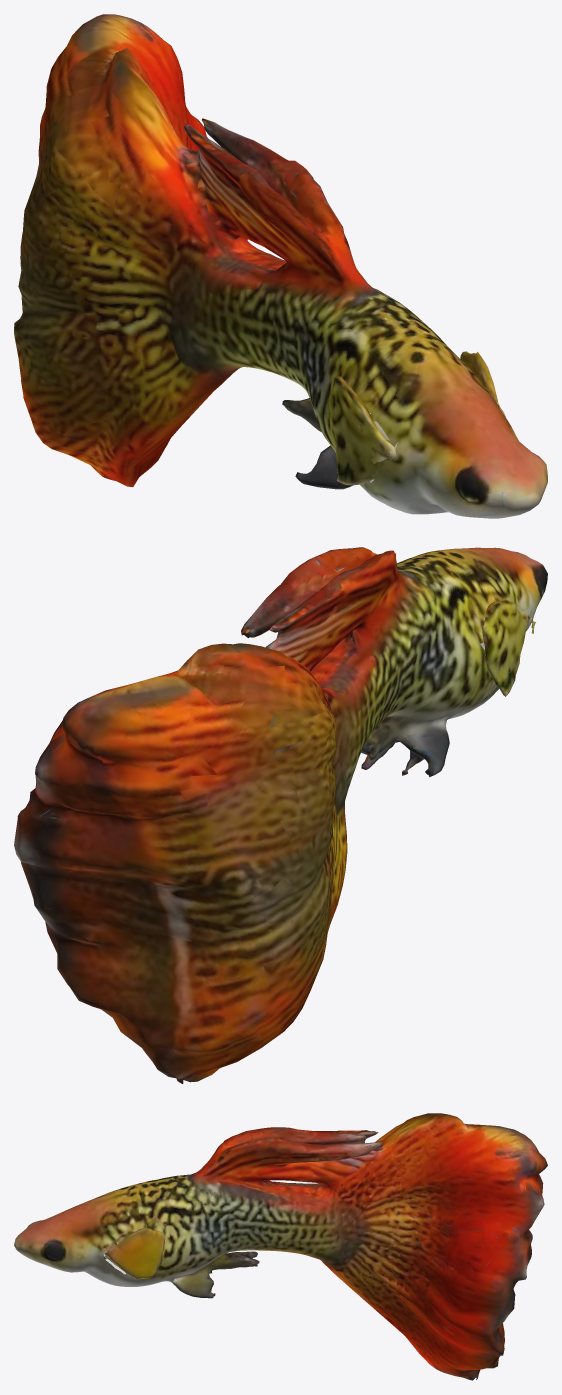
File: strain-gold_red_snakeskin.glb
3 renders of one model, top to bottom at view 1: azimuth 30°, elevation 25°; view 2: azimuth 150°, elevation 25°; view 3: azimuth 270°, elevation 25°, orthographic. The views are drawn at different scales.
Visible parts, largest first — view 1: Mesh_0.001; view 2: Mesh_0.001; view 3: Mesh_0.001.
Part boxes in pixels (<box>): Mesh_0.001: <box>14,14,547,518</box>; Mesh_0.001: <box>14,547,547,1083</box>; Mesh_0.001: <box>14,1113,547,1380</box>.
Bounding box in the file's own units: 0.0124 × 0.0198 × 0.0367.
2 materials, 2 textured.
